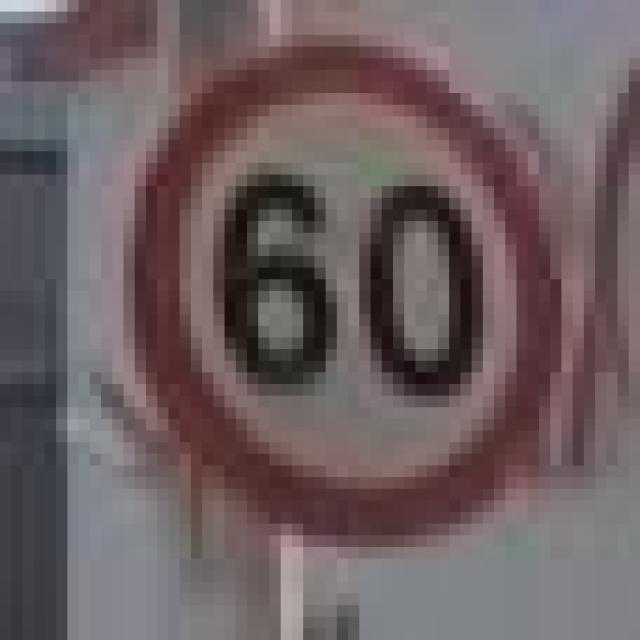traffic_sign: (112, 23, 550, 536)
